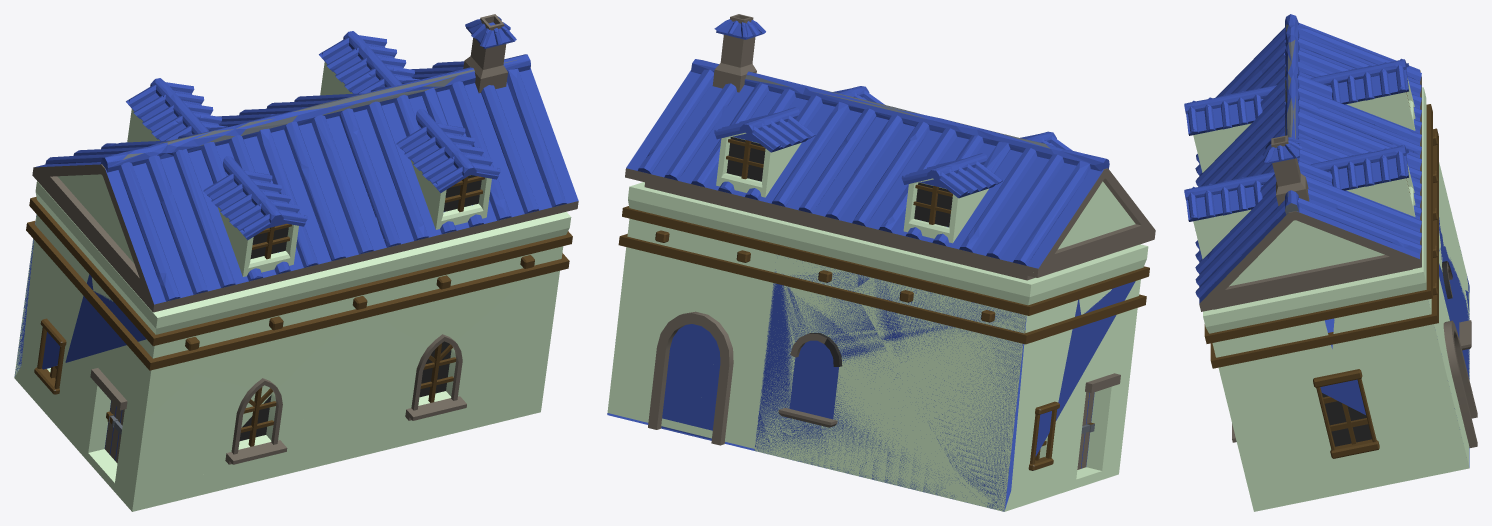
The model's file is civilian_house_38_e_root2.fbx.
The picture shows the model from 3 angles, left to right: view 1: azimuth 30°, elevation 25°; view 2: azimuth 150°, elevation 25°; view 3: azimuth 270°, elevation 25°; orthographic projection. The views are drawn at different scales.
Visible parts, largest first — view 1: civilian_house_38_e_sh_7, civilian_house_38_e_sh_3, civilian_house_38_e_sh_1, civilian_house_38_e_sh_20, civilian_house_38_e_sh_12, civilian_house_38_e_sh_19, civilian_house_38_e_sh_11, civilian_house_38_e_sh_13, civilian_house_38_e_sh_2, civilian_house_38_e_sh_18, civilian_house_38_e_sh_9, civilian_house_38_e_sh_8 (+4 smaller); view 2: civilian_house_38_e_sh_11, civilian_house_38_e_sh_17, civilian_house_38_e_sh_10, civilian_house_38_e_sh_19, civilian_house_38_e_sh_6, civilian_house_38_e_sh_4, civilian_house_38_e_sh_9, civilian_house_38_e_sh_5, civilian_house_38_e_sh_2, civilian_house_38_e_sh_7, civilian_house_38_e_sh_13, civilian_house_38_e_sh_18 (+4 smaller); view 3: civilian_house_38_e_sh_9, civilian_house_38_e_sh_3, civilian_house_38_e_sh_5, civilian_house_38_e_sh_10, civilian_house_38_e_sh_20, civilian_house_38_e_sh_19, civilian_house_38_e_sh_4, civilian_house_38_e_sh_13, civilian_house_38_e_sh_1, civilian_house_38_e_sh_17, civilian_house_38_e_sh_15, civilian_house_38_e_sh_11 (+5 smaller).
Boxes of the visible parts, x1=… form: civilian_house_38_e_sh_7: x1=65, y1=294, x2=331, y2=487; civilian_house_38_e_sh_3: x1=393, y1=134, x2=578, y2=332; civilian_house_38_e_sh_1: x1=254, y1=152, x2=413, y2=365; civilian_house_38_e_sh_20: x1=348, y1=327, x2=552, y2=458; civilian_house_38_e_sh_12: x1=110, y1=194, x2=295, y2=345; civilian_house_38_e_sh_19: x1=33, y1=78, x2=276, y2=209; civilian_house_38_e_sh_11: x1=16, y1=147, x2=254, y2=367; civilian_house_38_e_sh_13: x1=338, y1=22, x2=492, y2=180; civilian_house_38_e_sh_2: x1=14, y1=362, x2=229, y2=511; civilian_house_38_e_sh_18: x1=70, y1=146, x2=256, y2=262; civilian_house_38_e_sh_9: x1=361, y1=24, x2=554, y2=136; civilian_house_38_e_sh_8: x1=272, y1=361, x2=356, y2=477; civilian_house_38_e_sh_11: x1=854, y1=233, x2=1119, y2=505; civilian_house_38_e_sh_17: x1=688, y1=277, x2=958, y2=494; civilian_house_38_e_sh_10: x1=614, y1=151, x2=775, y2=352; civilian_house_38_e_sh_19: x1=916, y1=121, x2=1075, y2=273; civilian_house_38_e_sh_6: x1=735, y1=122, x2=862, y2=290; civilian_house_38_e_sh_4: x1=819, y1=139, x2=940, y2=286; civilian_house_38_e_sh_9: x1=642, y1=15, x2=763, y2=160; civilian_house_38_e_sh_5: x1=607, y1=319, x2=728, y2=435; civilian_house_38_e_sh_2: x1=987, y1=394, x2=1127, y2=511; civilian_house_38_e_sh_7: x1=1055, y1=276, x2=1147, y2=424; civilian_house_38_e_sh_13: x1=747, y1=16, x2=865, y2=151; civilian_house_38_e_sh_18: x1=1034, y1=138, x2=1129, y2=258; civilian_house_38_e_sh_9: x1=1241, y1=138, x2=1408, y2=320; civilian_house_38_e_sh_3: x1=1189, y1=186, x2=1332, y2=426; civilian_house_38_e_sh_5: x1=1285, y1=314, x2=1477, y2=487; civilian_house_38_e_sh_10: x1=1328, y1=185, x2=1460, y2=414; civilian_house_38_e_sh_20: x1=1232, y1=412, x2=1372, y2=511; civilian_house_38_e_sh_19: x1=1214, y1=35, x2=1421, y2=115; civilian_house_38_e_sh_4: x1=1319, y1=77, x2=1432, y2=187; civilian_house_38_e_sh_13: x1=1208, y1=125, x2=1397, y2=214; civilian_house_38_e_sh_1: x1=1187, y1=110, x2=1268, y2=186; civilian_house_38_e_sh_17: x1=1433, y1=207, x2=1477, y2=418; civilian_house_38_e_sh_15: x1=1258, y1=85, x2=1337, y2=149; civilian_house_38_e_sh_11: x1=1413, y1=76, x2=1469, y2=291.
Size of the model in its own units: 5193 by 4574 by 3396.
